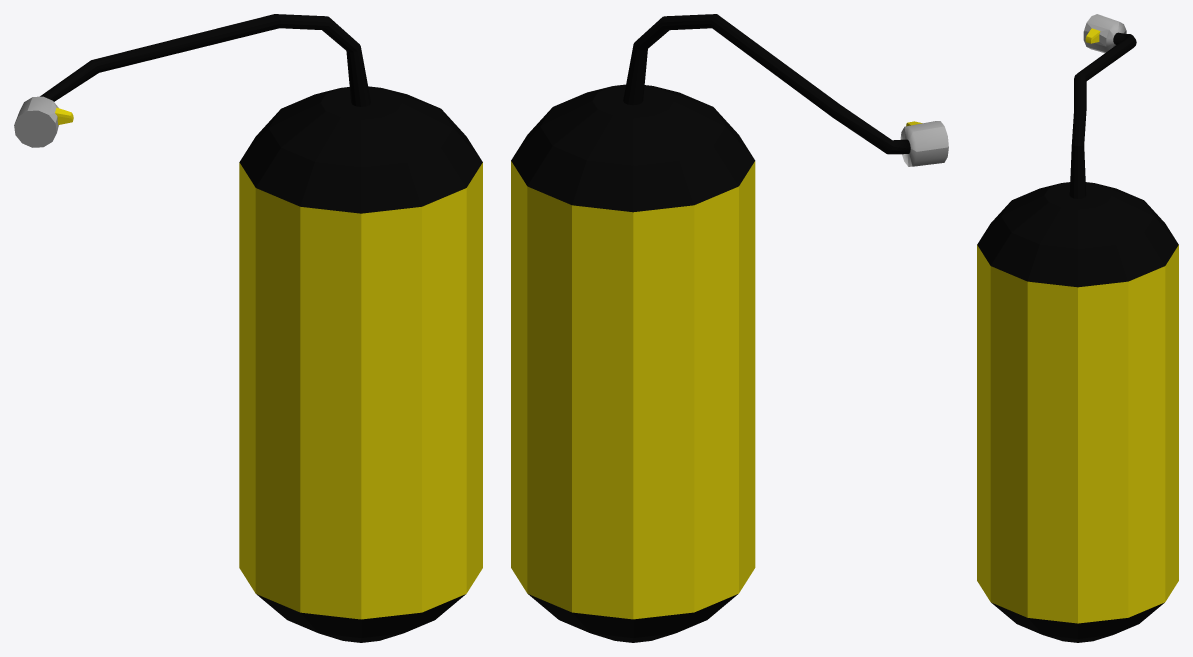
Rendered from Scuba Tank.fbx.
The picture shows the model from 3 angles, left to right: view 1: azimuth 30°, elevation 25°; view 2: azimuth 150°, elevation 25°; view 3: azimuth 270°, elevation 25°; orthographic projection. The views are drawn at different scales.
Visible parts, largest first — view 1: pCylinder1; view 2: pCylinder1; view 3: pCylinder1.
Boxes of the visible parts, box(x1,y1,x2,y2) form: pCylinder1: box(14, 14, 482, 642); pCylinder1: box(511, 14, 948, 642); pCylinder1: box(977, 14, 1178, 642).
Size of the model in its own units: 18.92 by 26.19 by 9.14.
